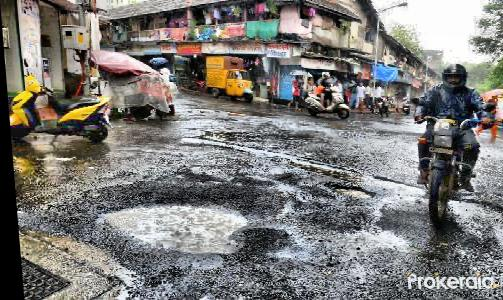pothole: (89, 183, 255, 253), (326, 181, 372, 199)
